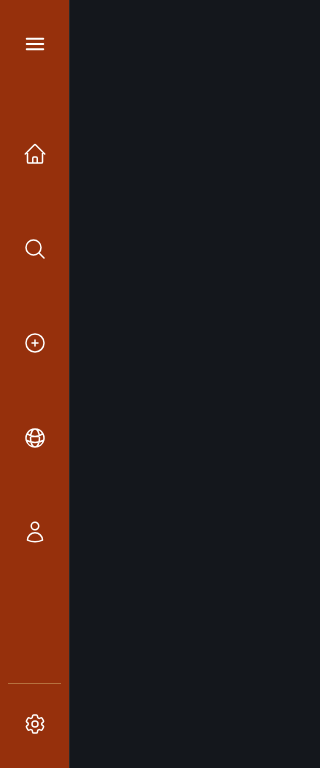
Test: Layout › deve exibir labels quando sidebar expandida
The width and height of the screenshot is (320, 768).
Click the button named "alternar menu" at (34, 44), box [8,20,61,68]
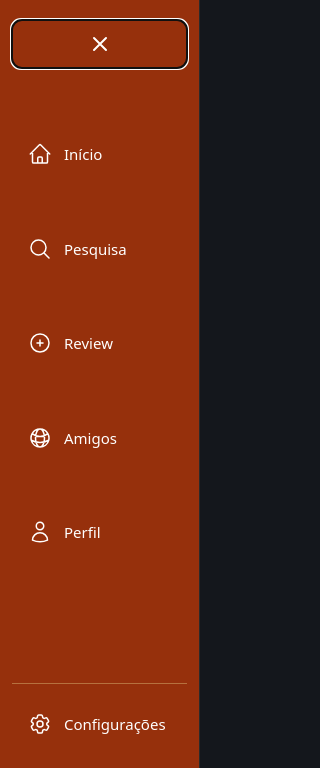
Result: the text "Início" is shown at [64,144,102,164]
Result: the text "Pesquisa" is shown at [64,239,127,259]
